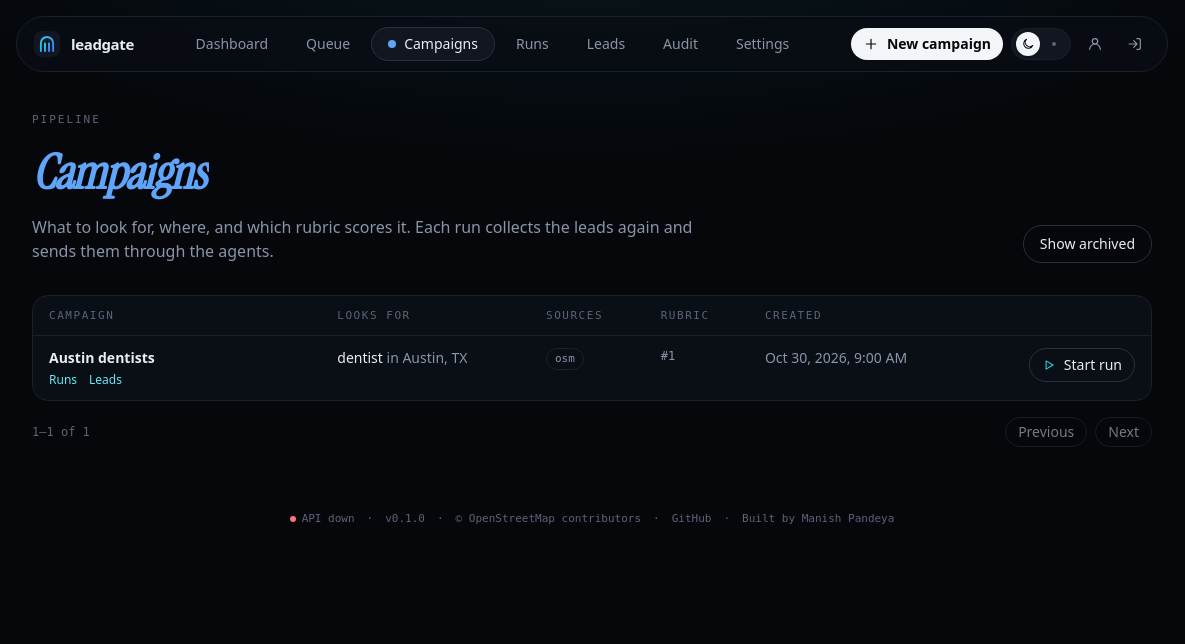
Test: protected routes › logs out on the Log out button
The image size is (1185, 644).
Click the button named "Log out": {"x": 1135, "y": 44} [1119,28,1151,60]
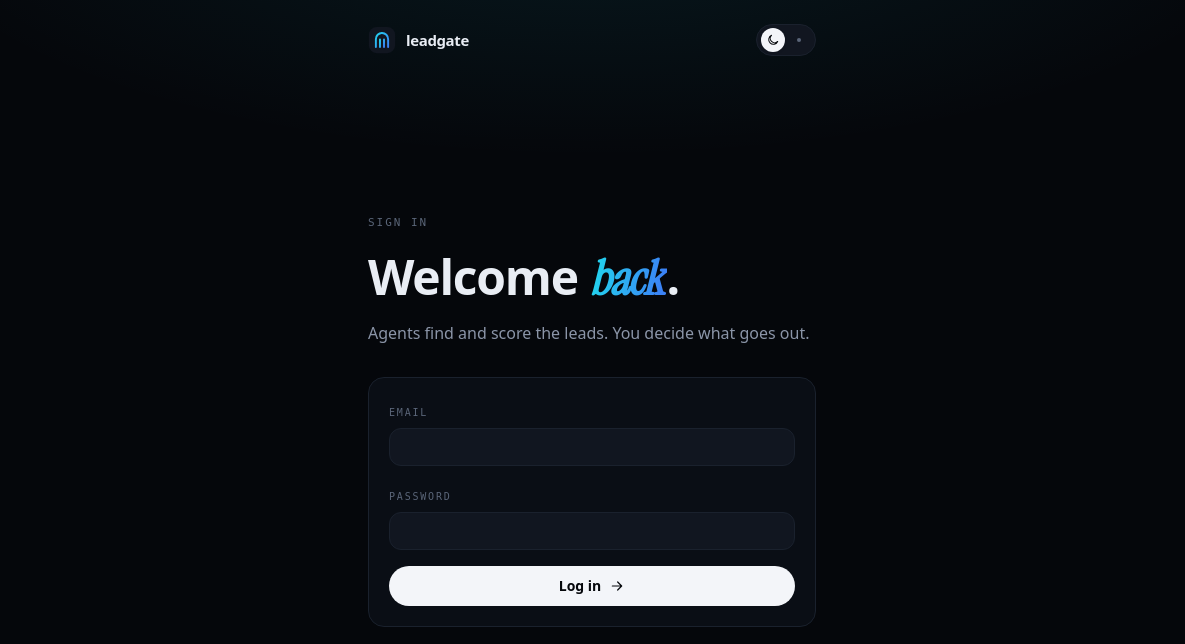
Expected: the button "Log in" is shown, [389,566,795,606]
